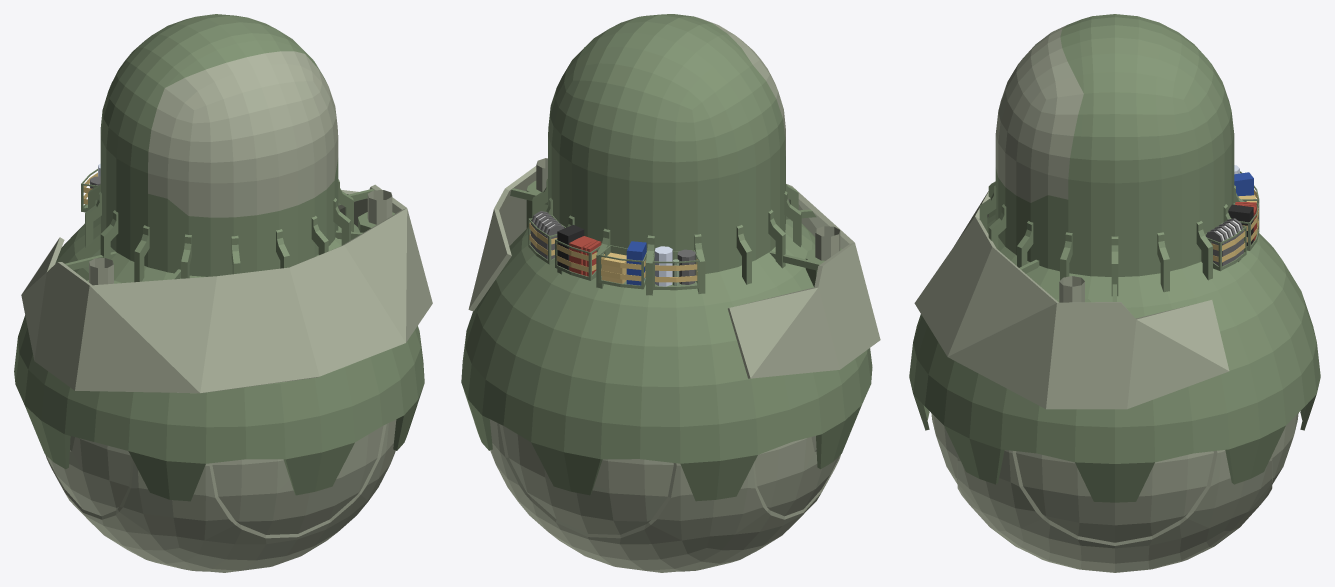
Rendered from SmallMechExport4.fbx.
3 renders of one model, left to right at view 1: azimuth 30°, elevation 25°; view 2: azimuth 150°, elevation 25°; view 3: azimuth 270°, elevation 25°, orthographic.
Parts seen in each view (by area): view 1: LightMechV2_EXPORT; view 2: LightMechV2_EXPORT; view 3: LightMechV2_EXPORT.
Part boxes in pixels (x1,y1,x2,y2): LightMechV2_EXPORT: (14,14,432,572); LightMechV2_EXPORT: (461,14,880,572); LightMechV2_EXPORT: (909,14,1320,572).
Size of the model in its own units: 580 by 824 by 577.
